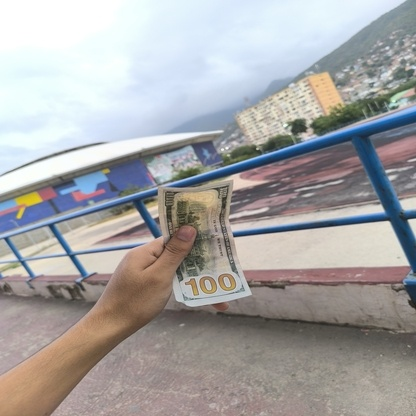one_hundred-back: (150, 177, 260, 314)
